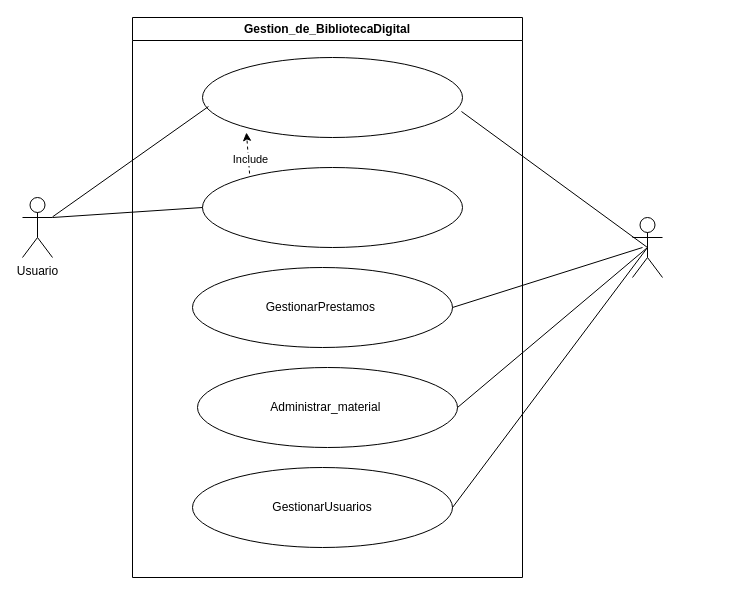
The diagram is 739 pixels wide and 595 high, and some of its shapes have lost their labels. Each missing label, with the centre of its shape:
Administrador / Bibliotecario: point 647,247
Loguearse / Iniciar_sesion: point 332,97
SolicitarPrestamo: point 332,207
